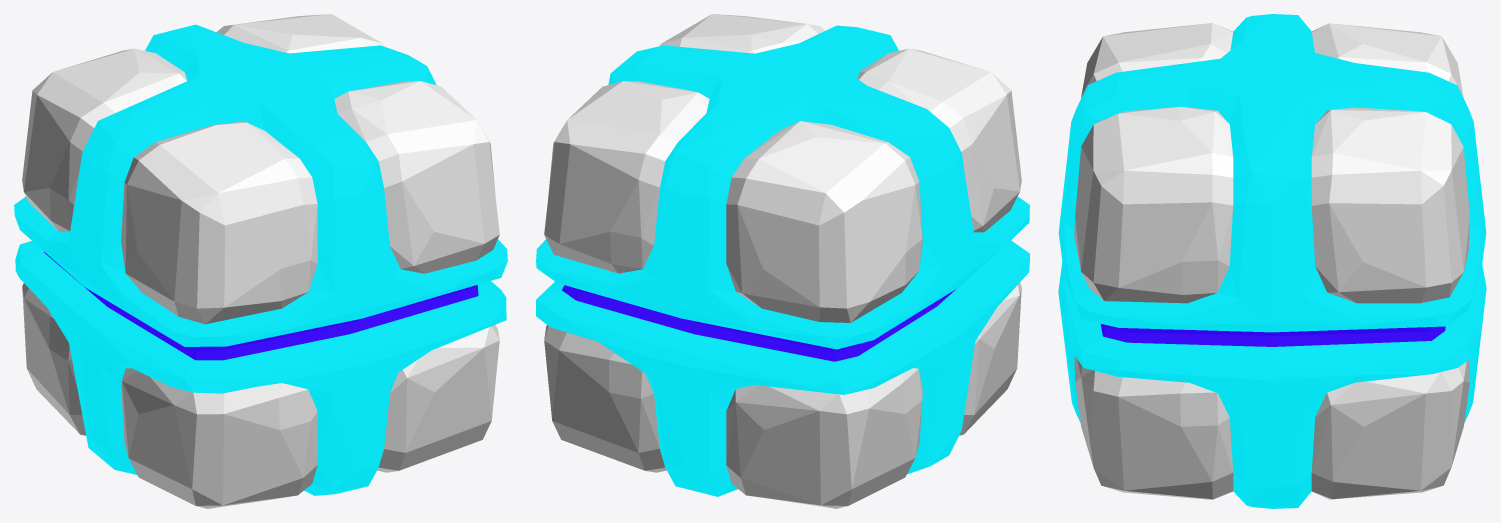
Rendered from invisibility_trap.glb.
3 renders of one model, left to right at view 1: azimuth 30°, elevation 25°; view 2: azimuth 150°, elevation 25°; view 3: azimuth 270°, elevation 25°, orthographic. The views are drawn at different scales.
Parts seen in each view (by area): view 1: invisibility_trap_BAKED; view 2: invisibility_trap_BAKED; view 3: invisibility_trap_BAKED.
Boxes of the visible parts, x1=… form: invisibility_trap_BAKED: x1=14, y1=14, x2=507, y2=508; invisibility_trap_BAKED: x1=536, y1=14, x2=1029, y2=508; invisibility_trap_BAKED: x1=1058, y1=14, x2=1486, y2=508.
Size of the model in its own units: 2.13 by 2.13 by 2.13.
